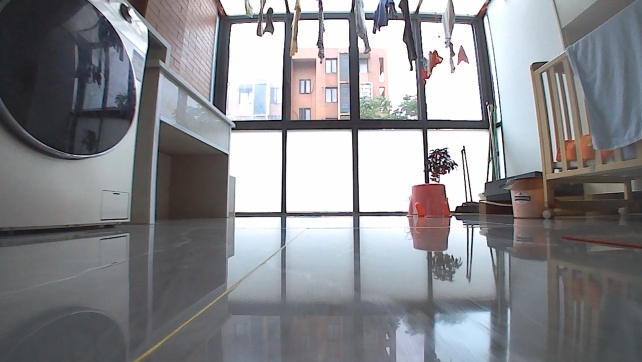blanket: (562, 230, 641, 254)
washing_machine: (0, 0, 150, 235)
